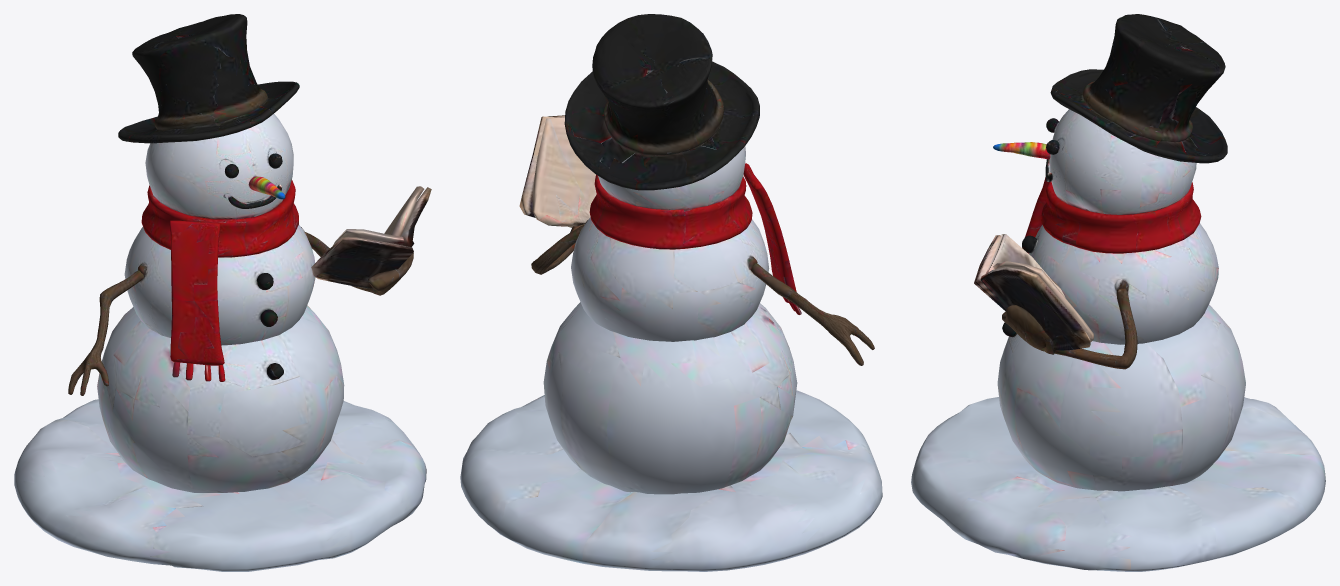
The model's file is p-snowman.glb.
The picture shows the model from 3 angles, left to right: view 1: azimuth 30°, elevation 25°; view 2: azimuth 150°, elevation 25°; view 3: azimuth 270°, elevation 25°; orthographic projection. The views are drawn at different scales.
Visible parts, largest first — view 1: Mesh_0; view 2: Mesh_0; view 3: Mesh_0.
Part boxes in pixels (x1,y1,x2,y2): Mesh_0: [14, 14, 431, 571]; Mesh_0: [460, 14, 882, 571]; Mesh_0: [911, 14, 1325, 571].
Size of the model in its own units: 0.8376 by 1 by 0.8199.
1 material, 1 textured.
